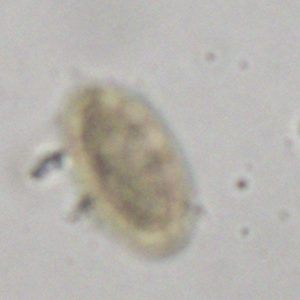Fasciola_hepatica_egg: (51, 76, 199, 260)
